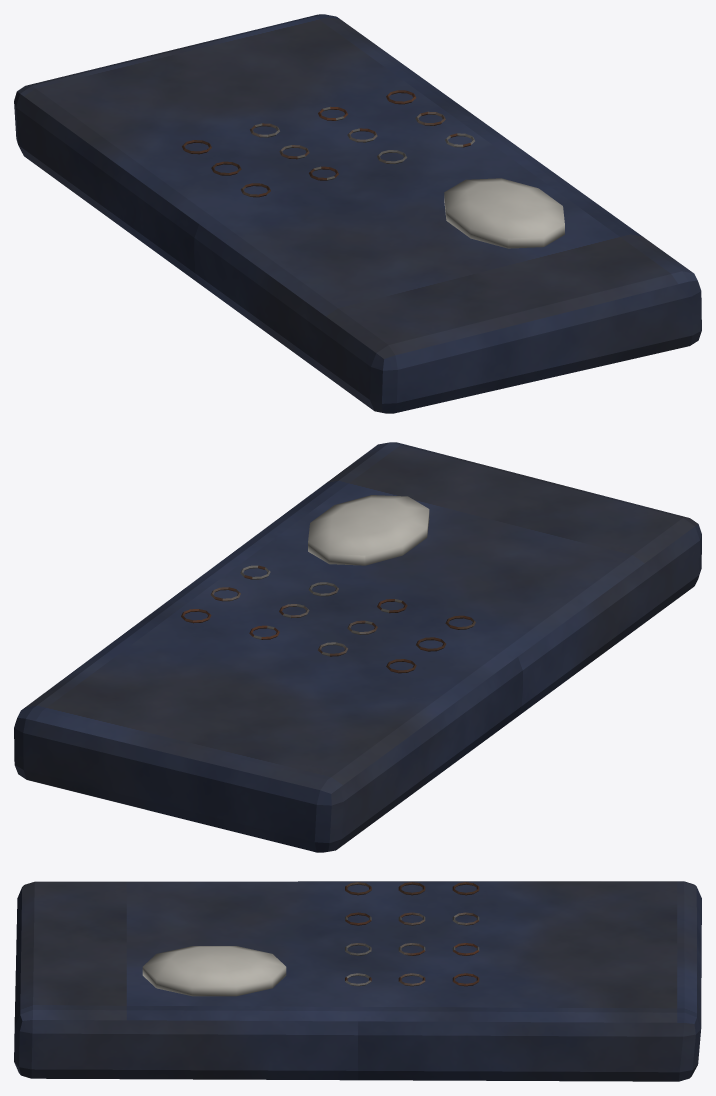
Rendered from BR10_torn_mattress_v1.glb.
The picture shows the model from 3 angles, top to bottom: view 1: azimuth 30°, elevation 25°; view 2: azimuth 150°, elevation 25°; view 3: azimuth 270°, elevation 25°; orthographic projection. The views are drawn at different scales.
Parts seen in each view (by area): view 1: BR10_torn_mattress_v1; view 2: BR10_torn_mattress_v1; view 3: BR10_torn_mattress_v1.
Part boxes in pixels (left/top/right/bottom): BR10_torn_mattress_v1: left=14, top=14, right=701, bottom=413; BR10_torn_mattress_v1: left=14, top=442, right=701, bottom=852; BR10_torn_mattress_v1: left=14, top=881, right=701, bottom=1081.
Bounding box in the file's own units: 0.9553 × 0.2721 × 1.9.
3 materials, 3 textured.
